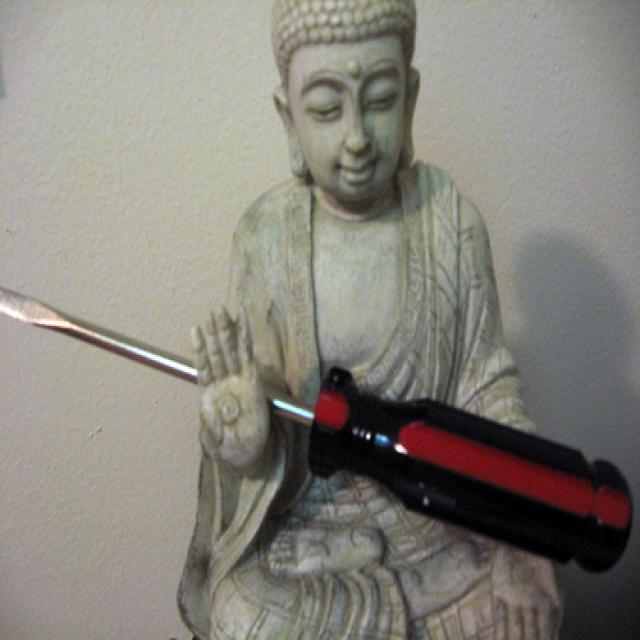screwdriver: (0, 269, 640, 583)
